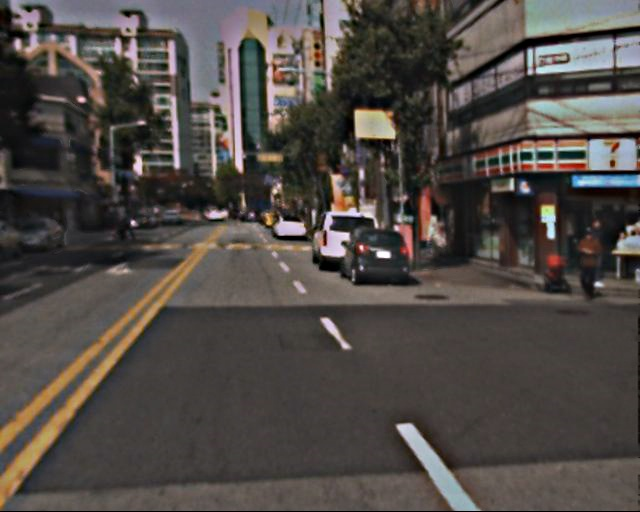person: (574, 227, 607, 300), (583, 216, 612, 287), (120, 207, 135, 243)
